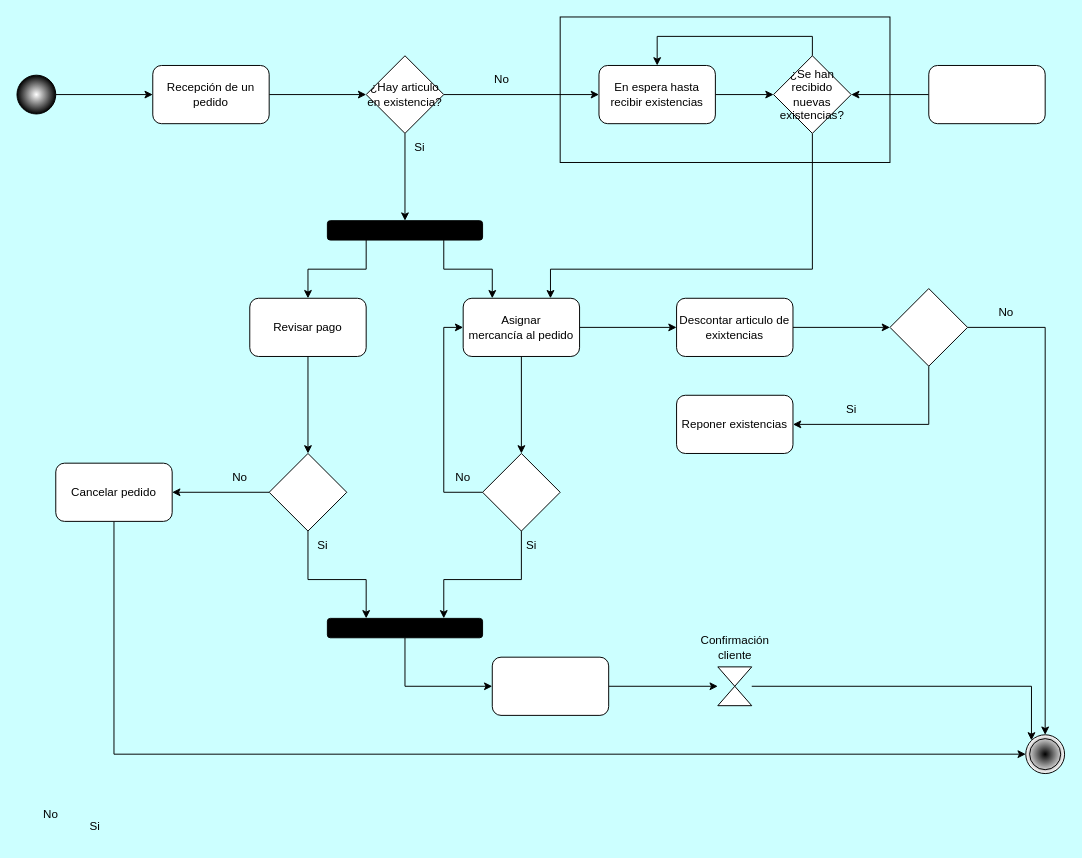
This 1082x858 diagram has some shape labels left out. The shapes that lost their labels are listed below. From the top down, each one's centre as x and y in pixels, then its label:
At point (986, 94): "Stock existencias".
At point (928, 327): "¿Mercancía por debajo del nivel de reposición?".
At point (307, 492): "¿El pago es correcto?".
At point (521, 492): "¿Se han asignado todos los artículos al pedido?".
At point (550, 685): "Despachar pedido a cliente".
